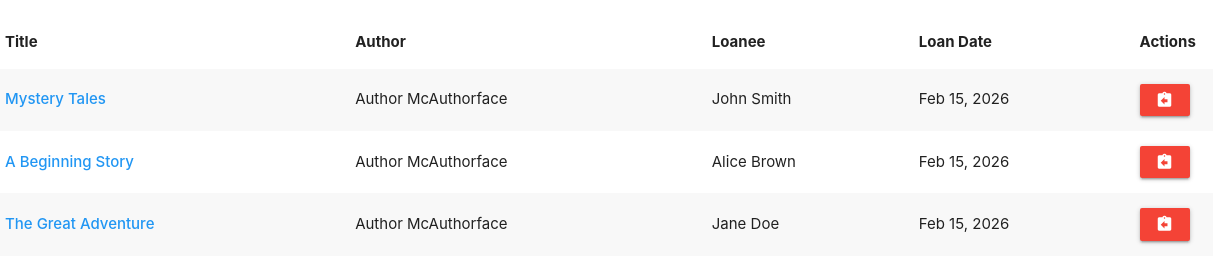
Test: LoanedBookGrid Component › should change sort column when clicking different column header
The width and height of the screenshot is (1213, 263).
// Click title first
What coordinates should you click on to do the following:
click the column heading "Title"
I would click on:
 (21, 42)
Its box is [0,16,350,68].
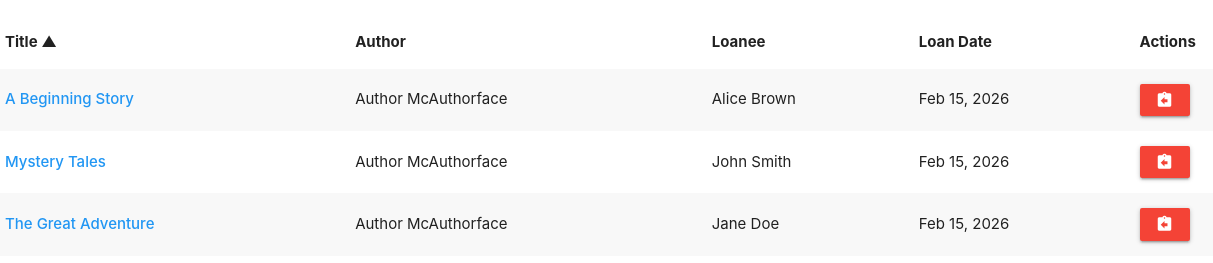
Result: the column heading "Title ▲" is shown at [0,16,350,68]
// Click author - should be ascending
What coordinates should you click on to do the following:
click the column heading "Author"
I would click on:
 (380, 42)
Its box is [350,16,707,68].
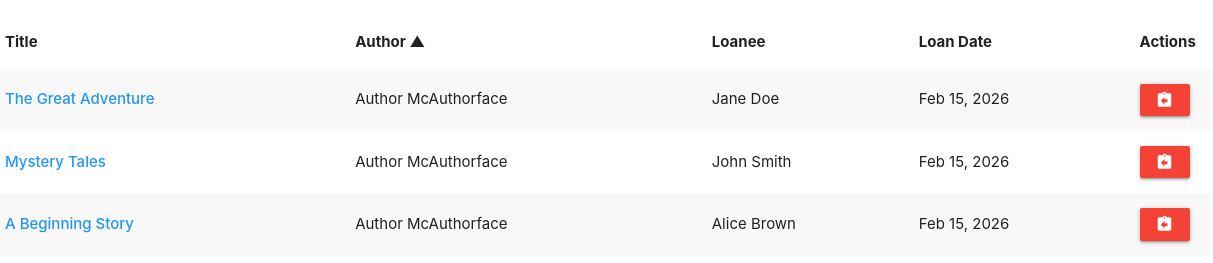
Result: the column heading "Author ▲" is shown at [350,16,707,68]
Result: the column heading "Title" no longer shows "▲"
